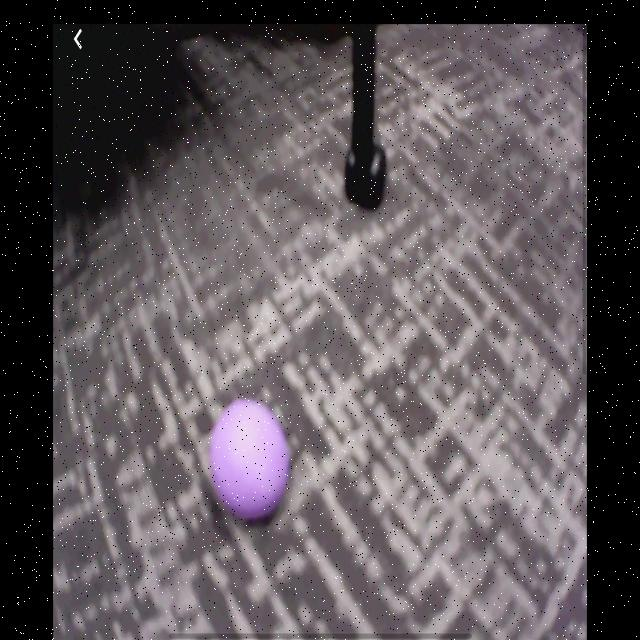ball: (210, 400, 292, 522)
